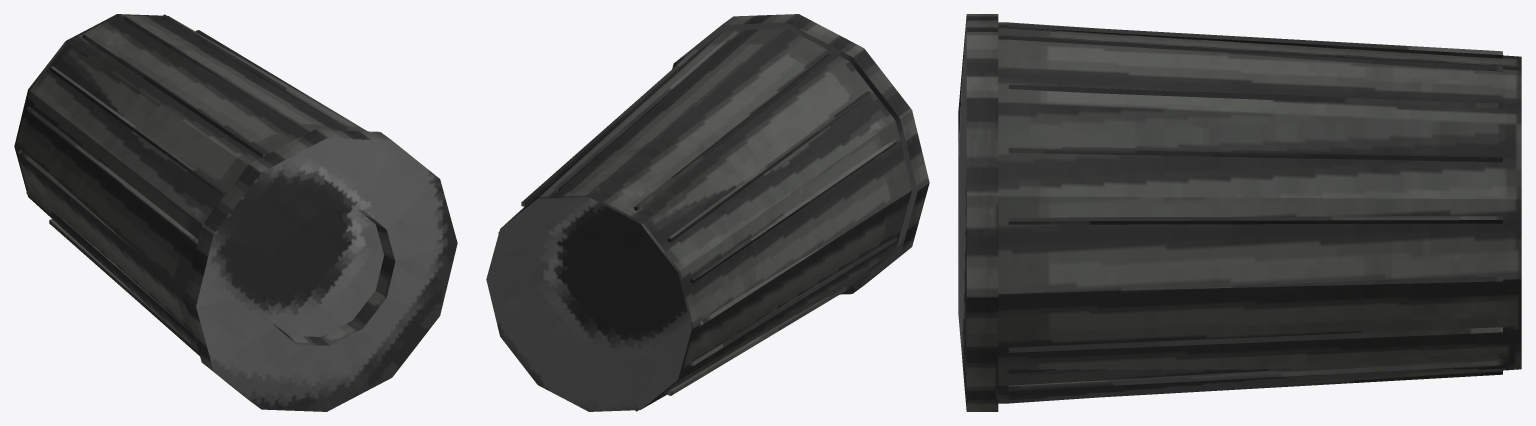
File: pz_trashbin_public.obj
3 views of the same model, side by side, from view 1: azimuth 30°, elevation 25°; view 2: azimuth 150°, elevation 25°; view 3: azimuth 270°, elevation 25° (orthographic). The views are drawn at different scales.
Parts seen in each view (by area): view 1: pz_trashbin_public_|_ring_top_with_real_disposal_opening, pz_trashbin_public_|_open_tapered_trash_body, pz_trashbin_public_|_native_longitudinal_rib.006, pz_trashbin_public_|_native_longitudinal_rib.007, pz_trashbin_public_|_native_longitudinal_rib.005, pz_trashbin_public_|_native_longitudinal_rib.003, pz_trashbin_public_|_native_longitudinal_rib.009, pz_trashbin_public_|_native_longitudinal_rib.010, pz_trashbin_public_|_native_longitudinal_rib.004, pz_trashbin_public_|_native_longitudinal_rib.008, pz_trashbin_public_|_native_longitudinal_rib.002; view 2: pz_trashbin_public_|_open_tapered_trash_body, pz_trashbin_public_|_ring_top_with_real_disposal_opening, pz_trashbin_public_|_native_longitudinal_rib.006, pz_trashbin_public_|_native_longitudinal_rib.007, pz_trashbin_public_|_native_longitudinal_rib.005, pz_trashbin_public_|_native_longitudinal_rib.010, pz_trashbin_public_|_native_longitudinal_rib.002, pz_trashbin_public_|_native_longitudinal_rib.009, pz_trashbin_public_|_native_longitudinal_rib.003, pz_trashbin_public_|_native_longitudinal_rib.008, pz_trashbin_public_|_native_longitudinal_rib.004; view 3: pz_trashbin_public_|_open_tapered_trash_body, pz_trashbin_public_|_ring_top_with_real_disposal_opening, pz_trashbin_public_|_native_longitudinal_rib.001, pz_trashbin_public_|_native_longitudinal_rib.002, pz_trashbin_public_|_native_longitudinal_rib.014, pz_trashbin_public_|_native_longitudinal_rib.005, pz_trashbin_public_|_native_longitudinal_rib.003, pz_trashbin_public_|_native_longitudinal_rib.015, pz_trashbin_public_|_native_longitudinal_rib, pz_trashbin_public_|_native_longitudinal_rib.004, pz_trashbin_public_|_native_longitudinal_rib.013.
Boxes of the visible parts, box(x1,y1,x2,y2) form: pz_trashbin_public_|_ring_top_with_real_disposal_opening: box(184, 129, 457, 411); pz_trashbin_public_|_open_tapered_trash_body: box(14, 14, 367, 351); pz_trashbin_public_|_native_longitudinal_rib.006: box(49, 66, 226, 196); pz_trashbin_public_|_native_longitudinal_rib.007: box(26, 106, 198, 243); pz_trashbin_public_|_native_longitudinal_rib.005: box(82, 34, 265, 157); pz_trashbin_public_|_native_longitudinal_rib.003: box(161, 14, 356, 130); pz_trashbin_public_|_native_longitudinal_rib.009: box(26, 189, 195, 340); pz_trashbin_public_|_native_longitudinal_rib.010: box(49, 219, 199, 355); pz_trashbin_public_|_native_longitudinal_rib.004: box(122, 16, 253, 97); pz_trashbin_public_|_native_longitudinal_rib.008: box(18, 149, 135, 250); pz_trashbin_public_|_native_longitudinal_rib.002: box(195, 30, 357, 125); pz_trashbin_public_|_open_tapered_trash_body: box(486, 28, 912, 411); pz_trashbin_public_|_ring_top_with_real_disposal_opening: box(672, 14, 929, 294); pz_trashbin_public_|_native_longitudinal_rib.006: box(667, 91, 870, 242); pz_trashbin_public_|_native_longitudinal_rib.007: box(690, 139, 897, 283); pz_trashbin_public_|_native_longitudinal_rib.005: box(633, 54, 831, 210); pz_trashbin_public_|_native_longitudinal_rib.010: box(667, 272, 870, 395); pz_trashbin_public_|_native_longitudinal_rib.002: box(521, 49, 698, 206); pz_trashbin_public_|_native_longitudinal_rib.009: box(690, 236, 897, 365); pz_trashbin_public_|_native_longitudinal_rib.003: box(554, 31, 737, 191); pz_trashbin_public_|_native_longitudinal_rib.008: box(699, 233, 844, 326); pz_trashbin_public_|_native_longitudinal_rib.004: box(594, 80, 725, 191); pz_trashbin_public_|_open_tapered_trash_body: box(998, 22, 1521, 403); pz_trashbin_public_|_ring_top_with_real_disposal_opening: box(958, 14, 998, 411); pz_trashbin_public_|_native_longitudinal_rib.001: box(1008, 216, 1502, 224); pz_trashbin_public_|_native_longitudinal_rib.002: box(1008, 146, 1502, 162); pz_trashbin_public_|_native_longitudinal_rib.014: box(1008, 358, 1502, 391); pz_trashbin_public_|_native_longitudinal_rib.005: box(1008, 23, 1502, 58); pz_trashbin_public_|_native_longitudinal_rib.003: box(1008, 84, 1502, 108); pz_trashbin_public_|_native_longitudinal_rib.015: box(1008, 327, 1502, 352); pz_trashbin_public_|_native_longitudinal_rib: box(1158, 276, 1502, 289); pz_trashbin_public_|_native_longitudinal_rib.004: box(1154, 48, 1502, 71); pz_trashbin_public_|_native_longitudinal_rib.013: box(1104, 370, 1502, 397).
Bounding box in the file's own units: 0.38 × 0.38 × 0.536.
Materials: 2 (2 with a texture image).
